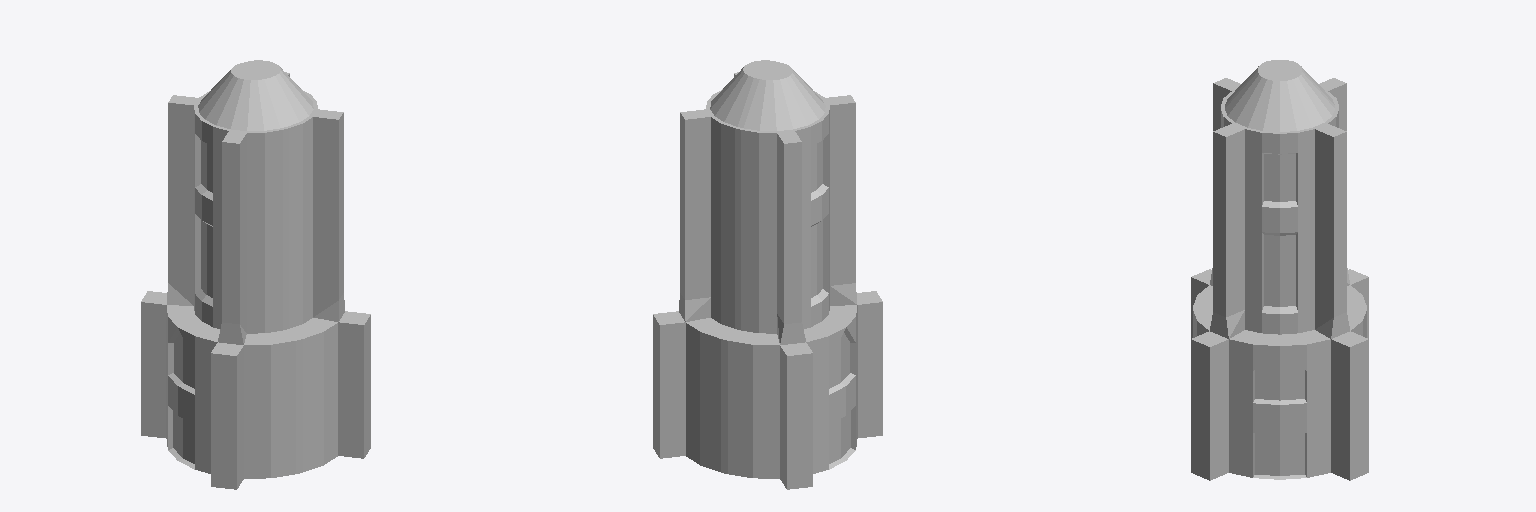
Rendered from HERO ASSET TORRE.obj.
3 views of the same model, side by side, from view 1: azimuth 30°, elevation 25°; view 2: azimuth 150°, elevation 25°; view 3: azimuth 270°, elevation 25° (orthographic).
Parts seen in each view (by area): view 1: pCylinder1; view 2: pCylinder1; view 3: pCylinder1.
Part boxes in pixels (bbox=[...]): pCylinder1: bbox=[141, 60, 370, 489]; pCylinder1: bbox=[653, 60, 882, 489]; pCylinder1: bbox=[1191, 60, 1368, 480].
Size of the model in its own units: 8523 by 18841 by 8205.